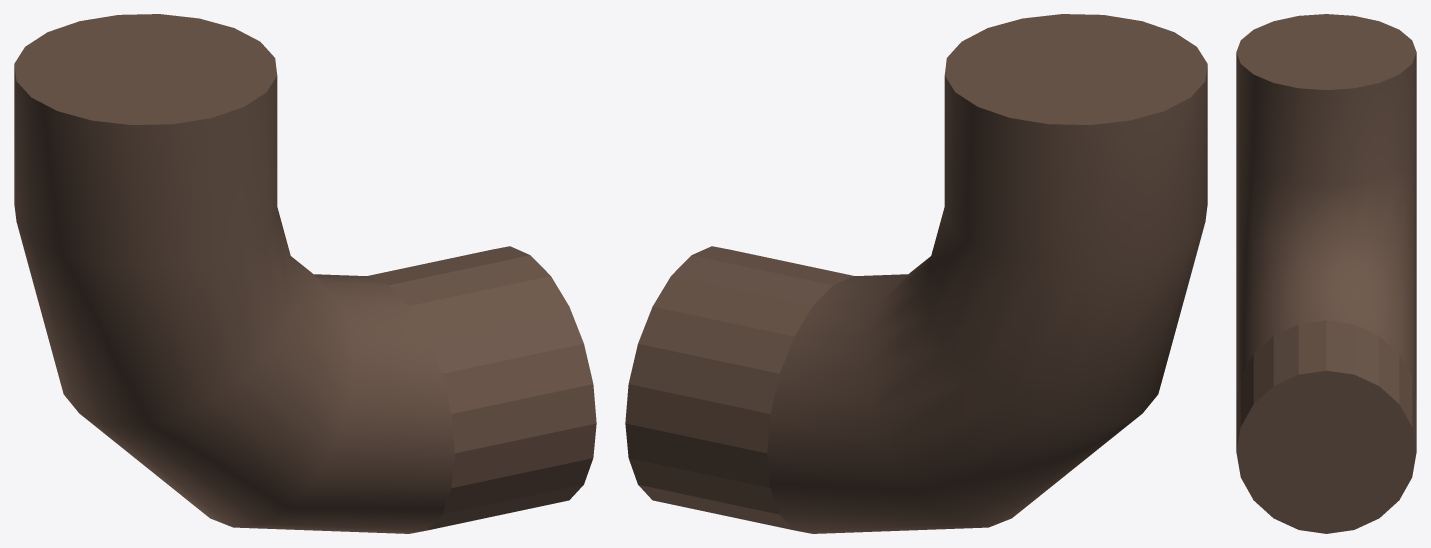
File: doukasenn2.fbx
3 renders of one model, left to right at view 1: azimuth 30°, elevation 25°; view 2: azimuth 150°, elevation 25°; view 3: azimuth 270°, elevation 25°, orthographic. The views are drawn at different scales.
Visible parts, largest first — view 1: pCylinder2; view 2: pCylinder2; view 3: pCylinder2.
Part boxes in pixels (x1=…): pCylinder2: x1=14, y1=14, x2=596, y2=533; pCylinder2: x1=625, y1=14, x2=1207, y2=533; pCylinder2: x1=1236, y1=14, x2=1416, y2=533.
Bounding box in the file's own units: 13.08 × 13 × 6.
